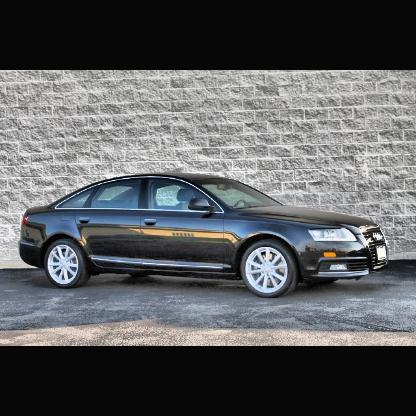Audi S6 Sedan 2011: (19, 170, 394, 300)
